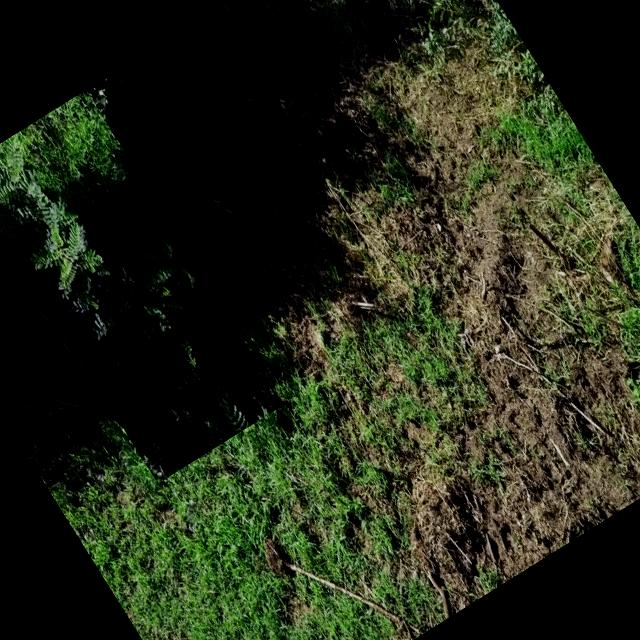Mysore-Thorn-Weed: (0, 89, 283, 483)
